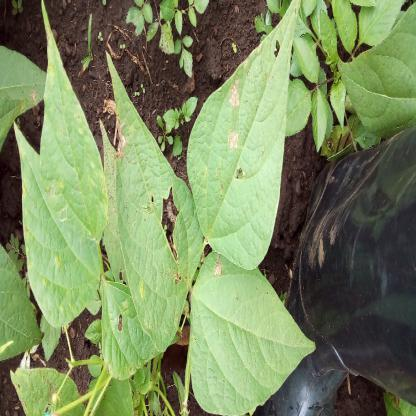Beans_Angular_LeafSpot: (8, 3, 105, 324), (189, 0, 302, 267), (105, 56, 190, 348)
